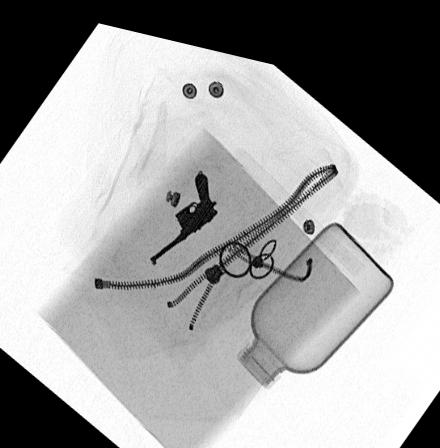Gun: (149, 161, 219, 258)
